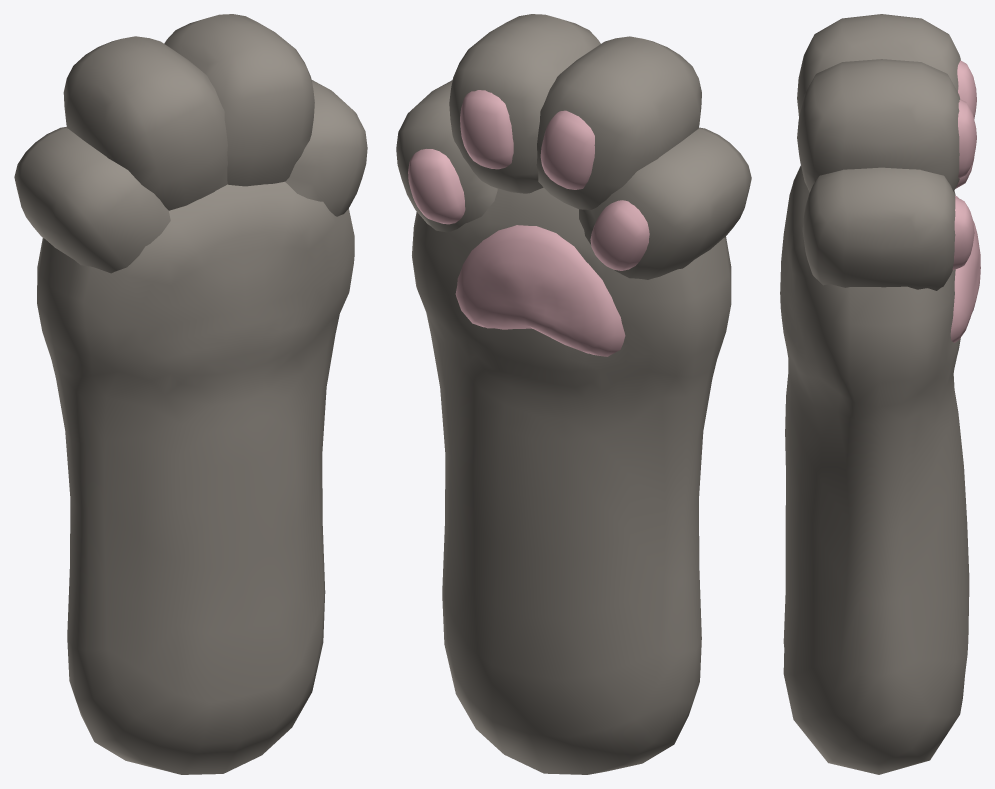
The model's file is Imported_paw.fbx.
3 views of the same model, side by side, from view 1: azimuth 30°, elevation 25°; view 2: azimuth 150°, elevation 25°; view 3: azimuth 270°, elevation 25° (orthographic). The views are drawn at different scales.
Parts seen in each view (by area): view 1: polySurface31; view 2: polySurface31; view 3: polySurface31.
Boxes of the visible parts, x1=… form: polySurface31: x1=14, y1=14, x2=367, y2=774; polySurface31: x1=396, y1=14, x2=751, y2=774; polySurface31: x1=780, y1=14, x2=980, y2=774.
Bounding box in the file's own units: 5.19 × 11.54 × 2.93.
